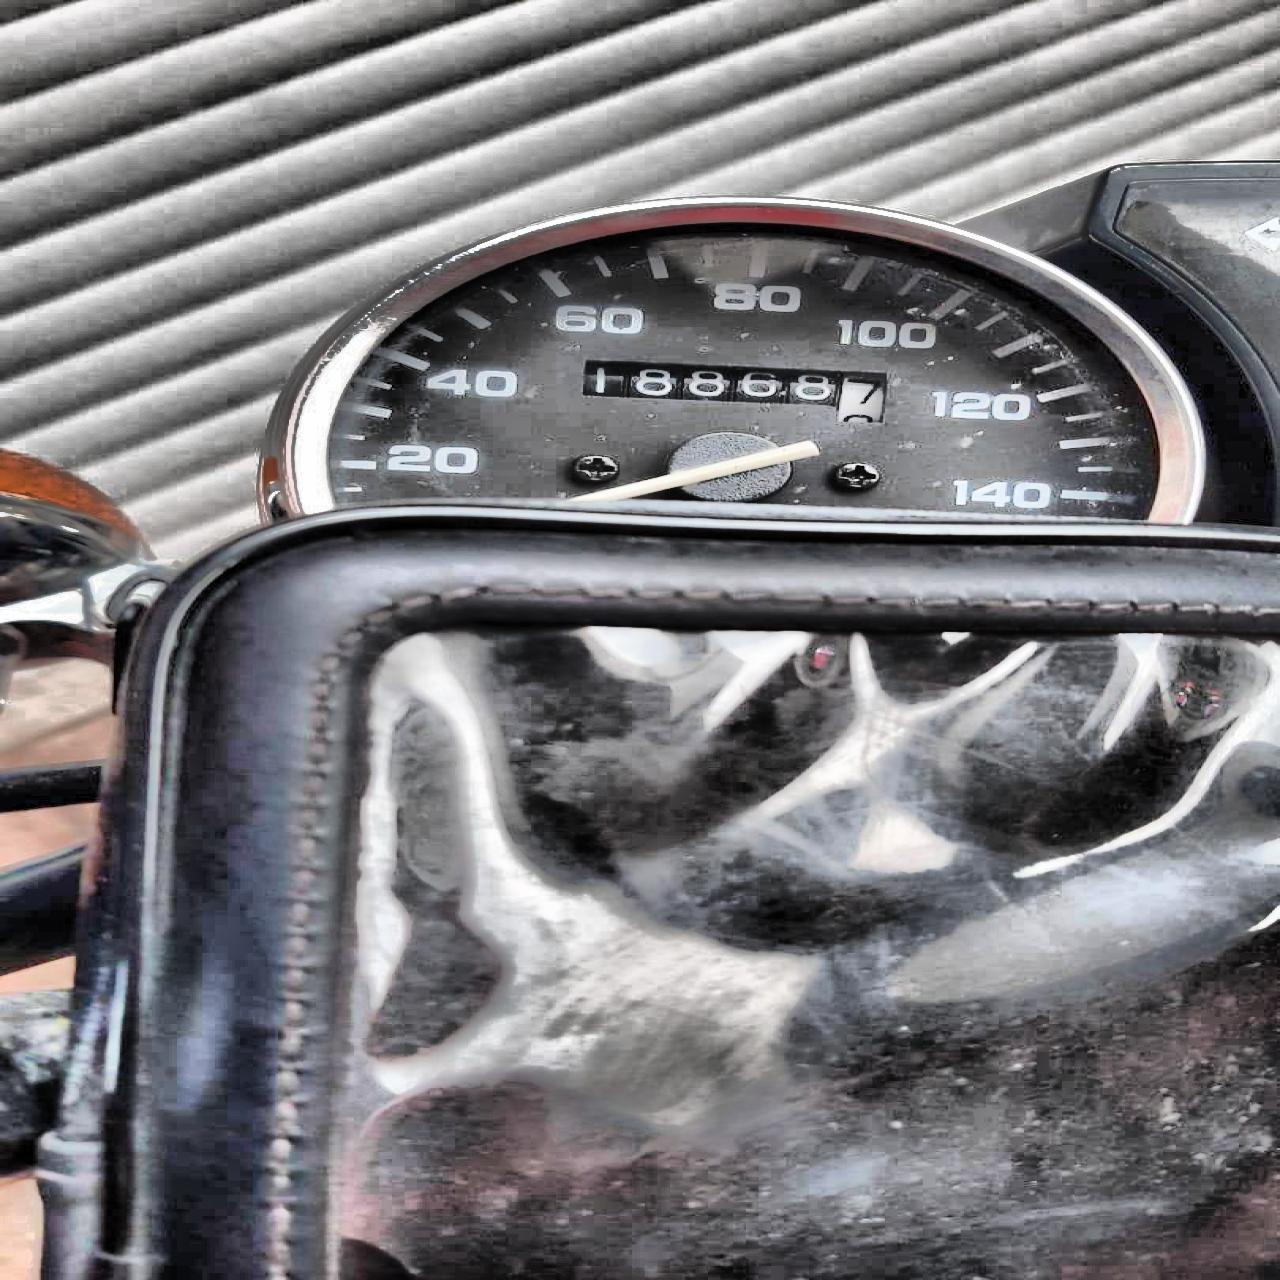1: (590, 362, 613, 400)
6: (737, 369, 777, 397)
7: (845, 376, 880, 404)
8: (632, 367, 673, 396), (791, 370, 832, 400), (685, 368, 723, 396)
odometer: (567, 354, 906, 435)
